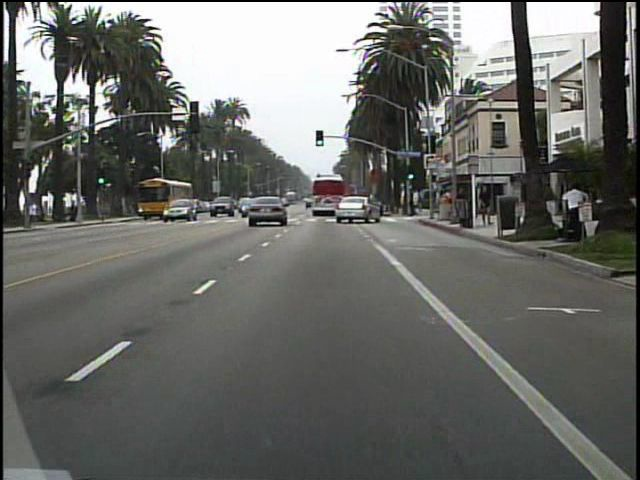person: (561, 178, 590, 245), (479, 181, 495, 229), (456, 183, 473, 223), (439, 184, 453, 220)
